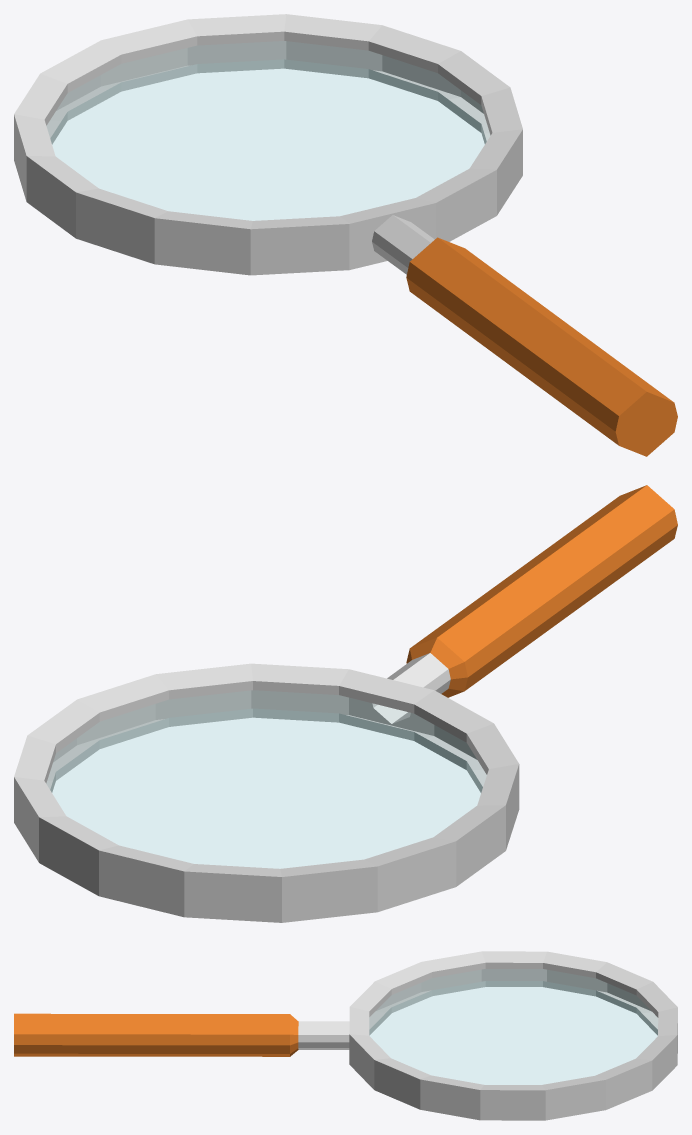
The model's file is magnifier.glb.
3 views of the same model, one above another, from view 1: azimuth 30°, elevation 25°; view 2: azimuth 150°, elevation 25°; view 3: azimuth 270°, elevation 25° (orthographic). The views are drawn at different scales.
Visible parts, largest first — view 1: Magnifier; view 2: Magnifier; view 3: Magnifier.
Boxes of the visible parts, box(x1,y1,x2,y2) form: Magnifier: box(14, 14, 677, 456); Magnifier: box(14, 485, 677, 922); Magnifier: box(14, 951, 677, 1120).
Bounding box in the file's own units: 885 × 127 × 1789.
